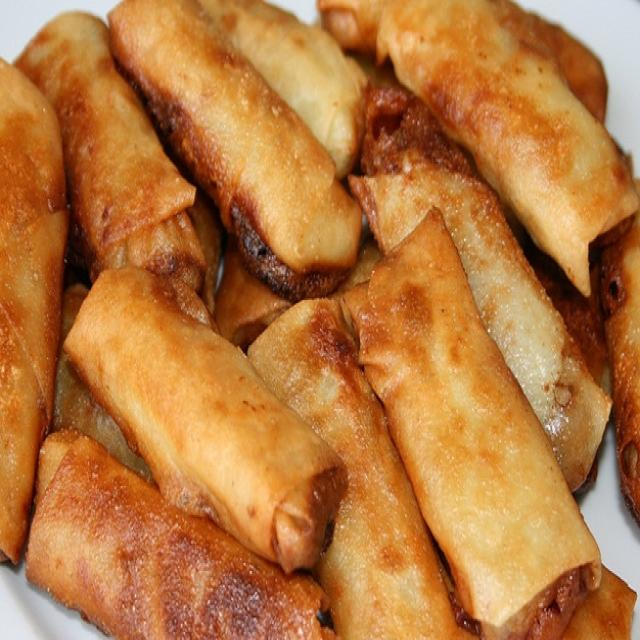炸货点心: (5, 5, 630, 632)
